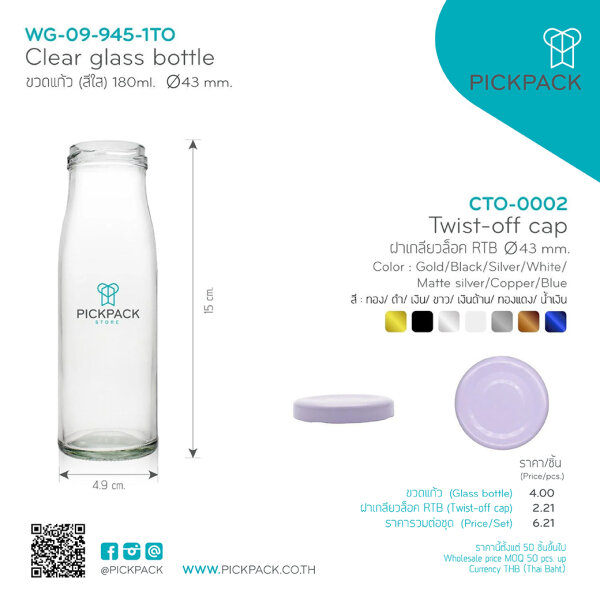glass_bottle: (48, 133, 165, 467)
